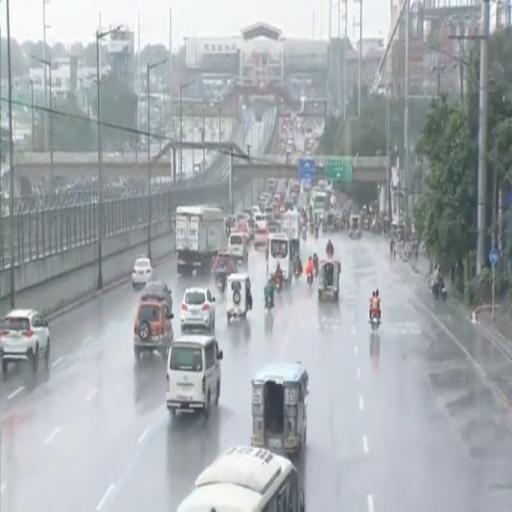bus: (177, 446, 305, 511)
car: (167, 335, 223, 415), (0, 310, 49, 375), (134, 300, 173, 360), (181, 287, 215, 332), (140, 281, 172, 311), (132, 258, 155, 289)
motorcycle: (432, 278, 447, 301), (213, 269, 226, 293), (370, 311, 380, 330), (273, 274, 283, 292), (216, 276, 226, 293), (265, 295, 273, 311), (294, 265, 301, 279), (313, 259, 318, 276), (307, 272, 313, 285), (314, 225, 319, 240), (327, 248, 333, 259), (302, 230, 306, 241), (310, 224, 314, 234)
truck: (176, 205, 226, 276), (281, 212, 300, 253)
